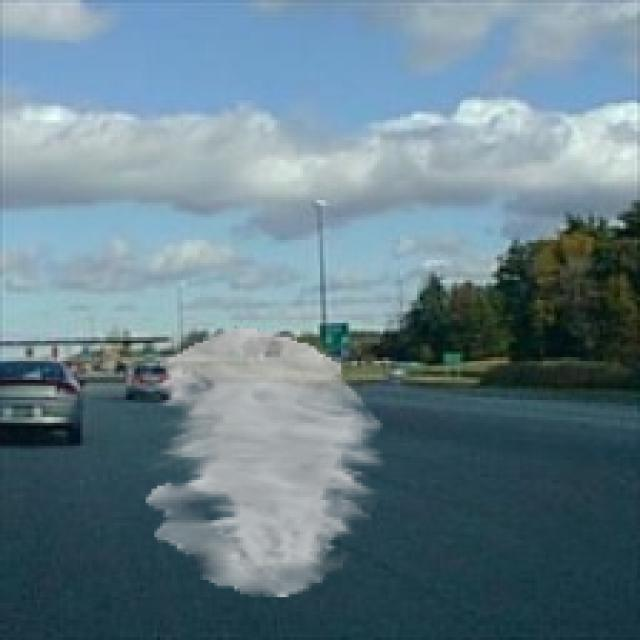smoke: (146, 329, 386, 597)
